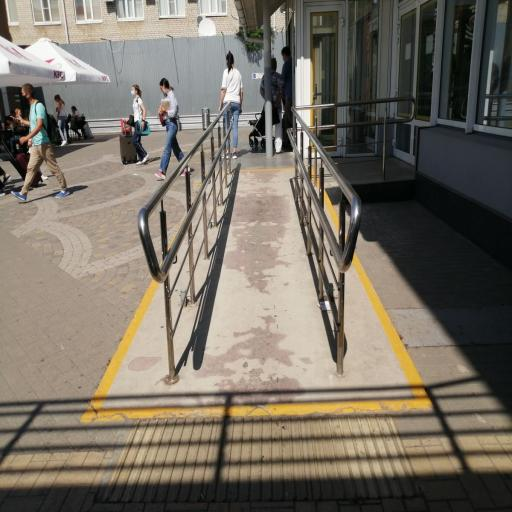crosswalk: (22, 82, 68, 206)
entrance: (82, 94, 444, 428)
